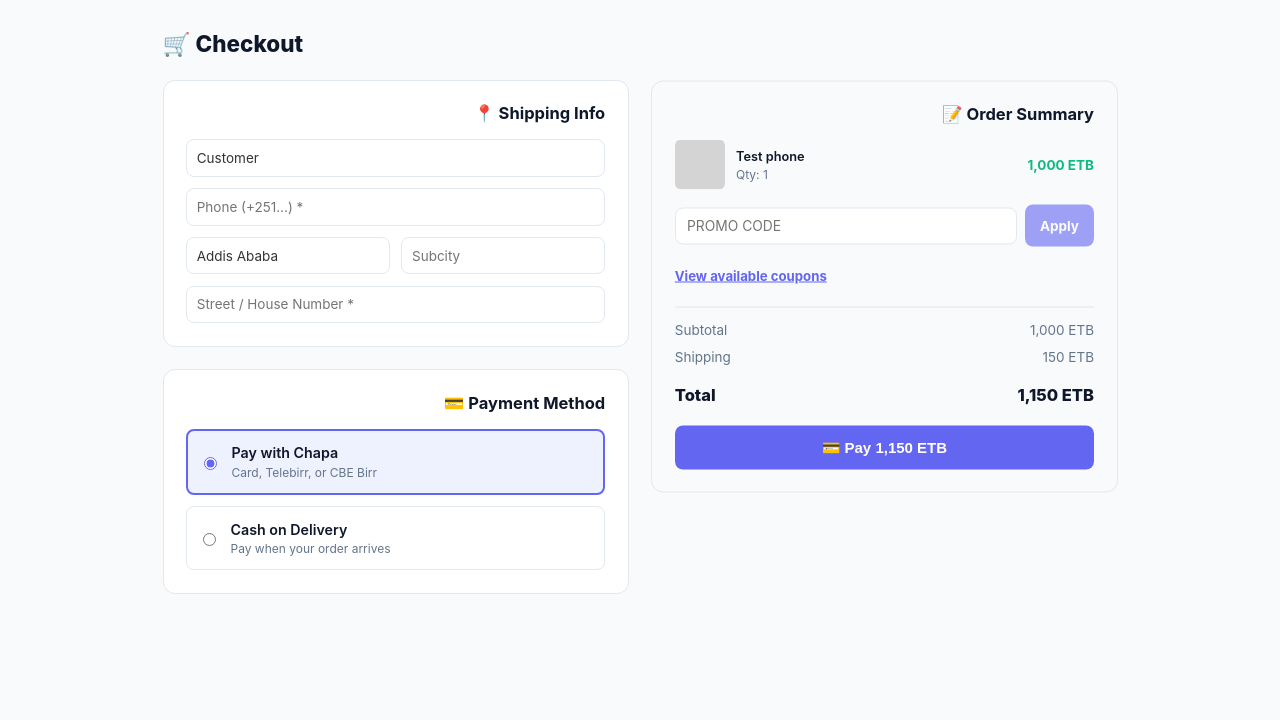
Test: Checkout promo codes › applies an available coupon from the checkout picker
Click the button "View available coupons" at (751, 276), box [675, 258, 827, 294]
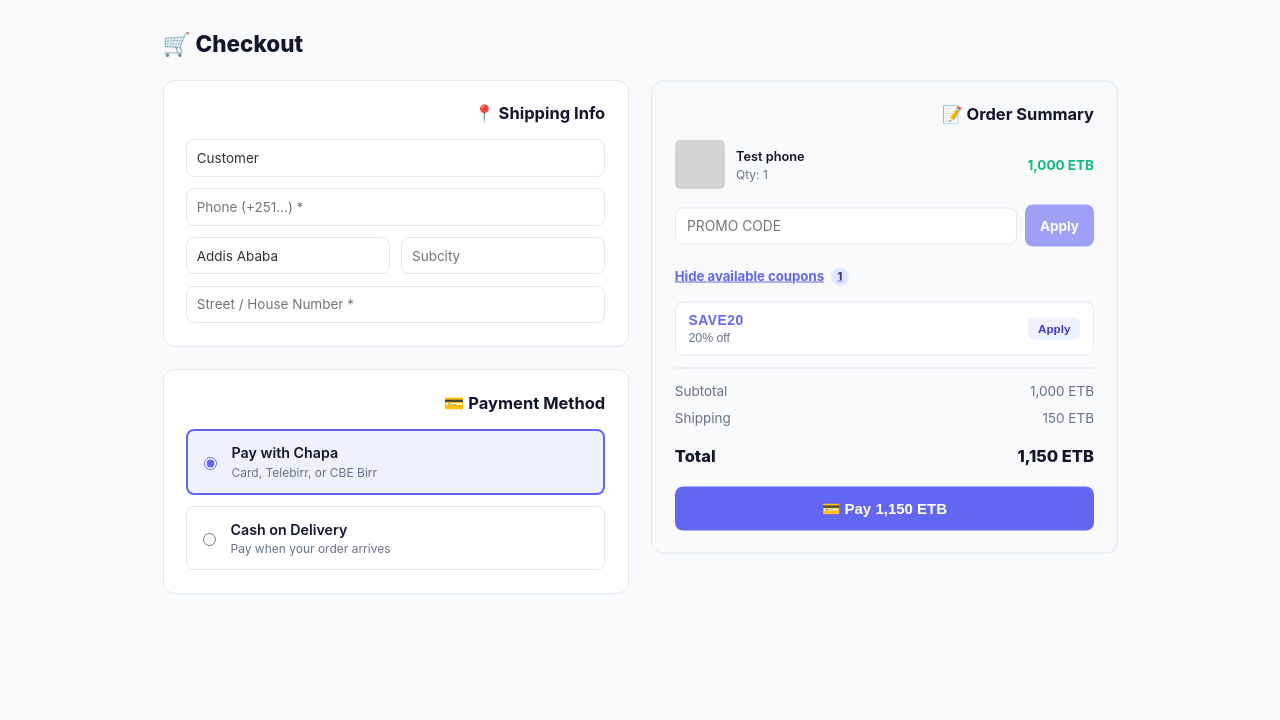
Click the button "SAVE20 20% off Apply" at (716, 320), box [675, 302, 1094, 355]
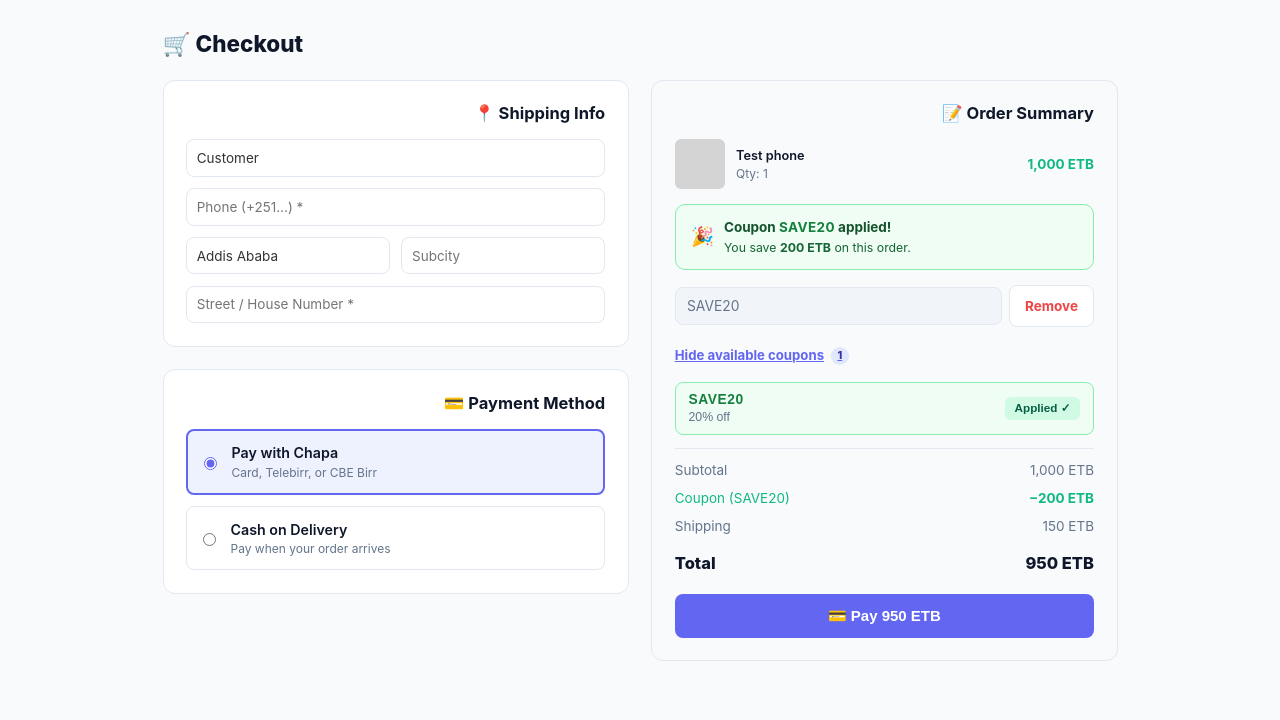
Check: the text "Coupon (SAVE20)" is shown, box [675, 488, 790, 508]
